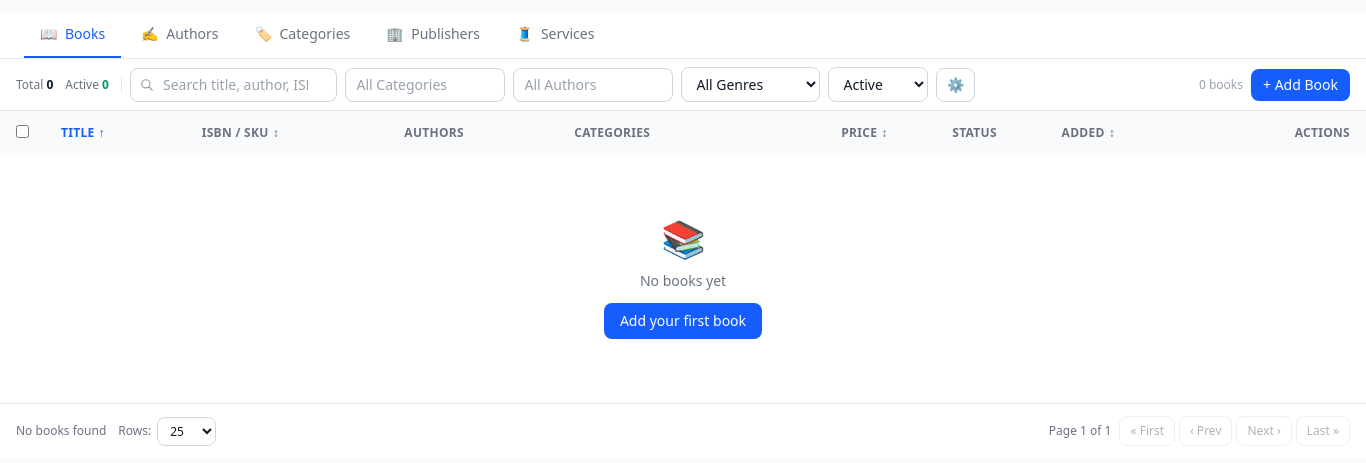
Test: Catalog reference tabs: who may change them › offers Delete to an Admin
Click the button "✍️ Authors".
click(180, 35)  # box [125, 12, 234, 58]
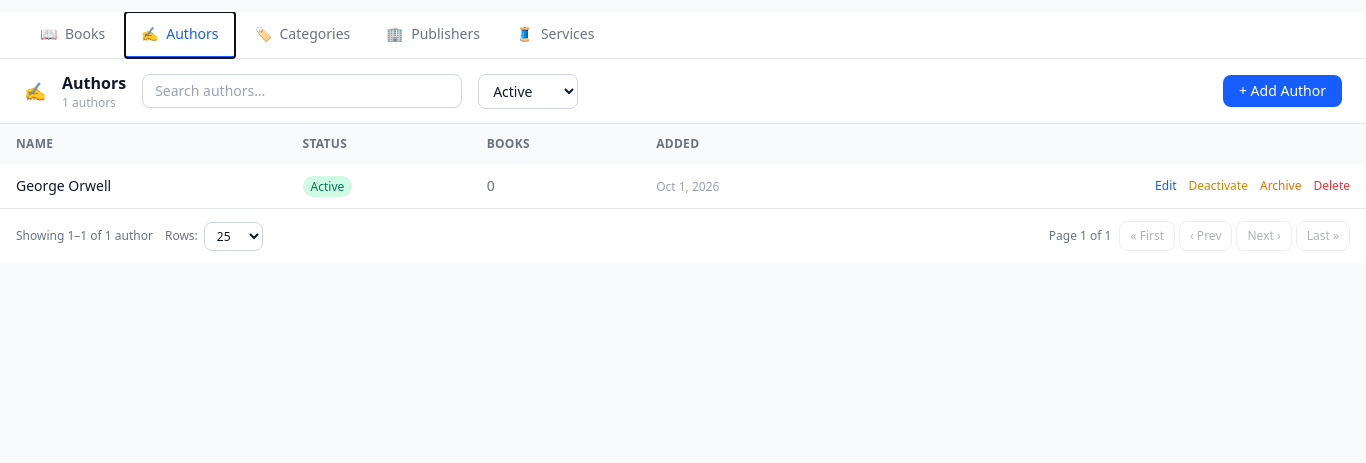
Check: the button "Delete" is shown, box [1314, 178, 1350, 194]
